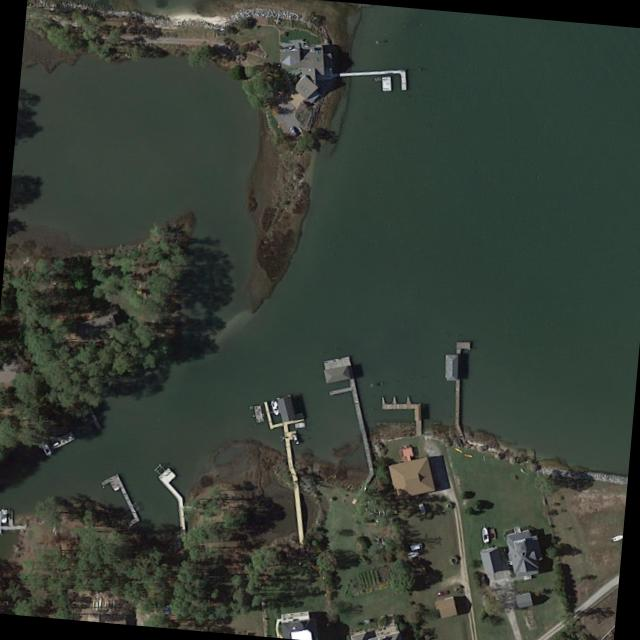ship: (269, 396, 281, 416), (479, 523, 490, 543), (40, 440, 52, 456), (0, 506, 8, 523), (406, 549, 420, 558), (610, 533, 622, 541), (51, 439, 60, 447)
small-vehicle: (287, 122, 299, 137), (411, 555, 424, 565), (409, 541, 423, 550), (417, 502, 426, 513), (436, 588, 449, 595)
